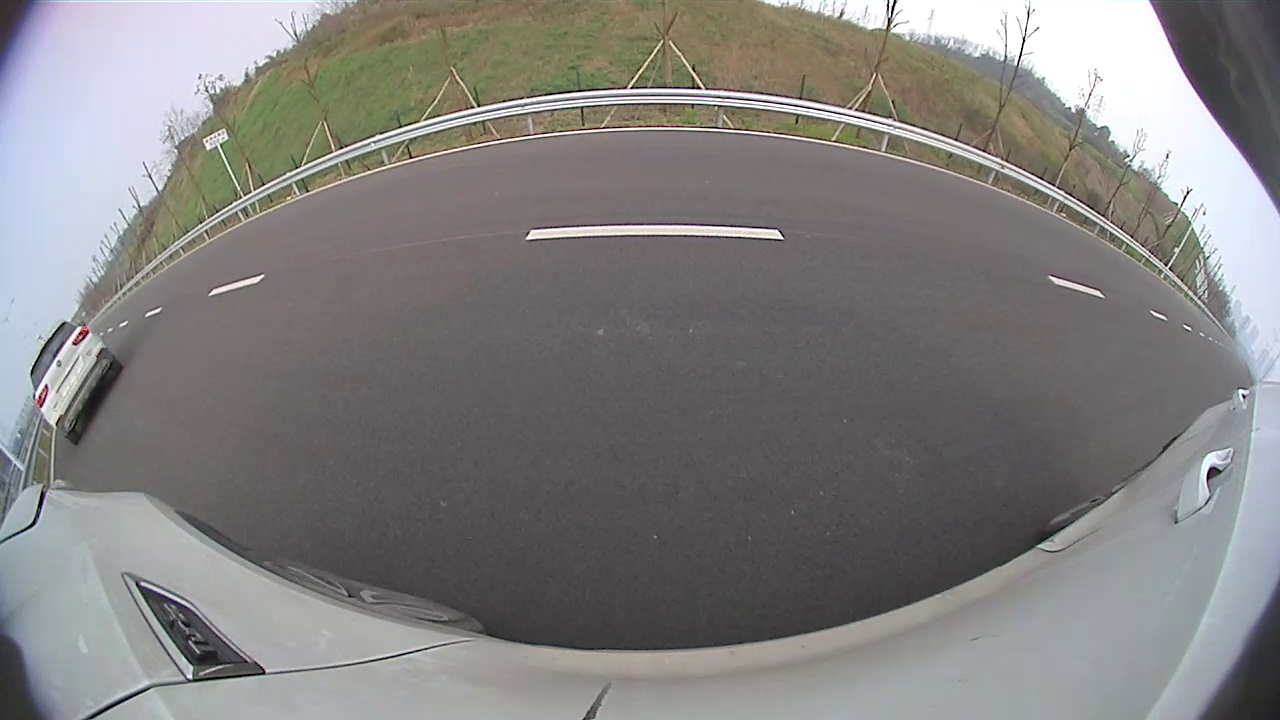car: (30, 321, 122, 445)
